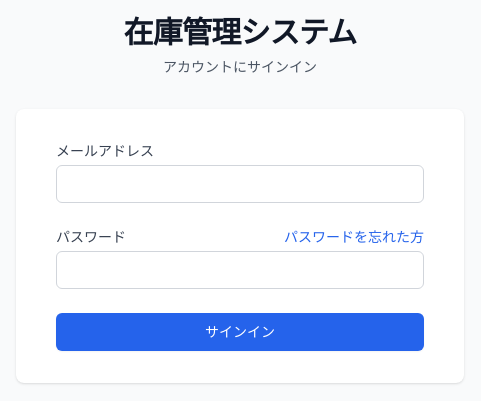
Test: Login › Successful Login › should disable button during login
Step 1. Type "test@example.com" into the field labelled "メールアドレス" → coordinates (240, 184), box left=56, top=165, right=424, bottom=203
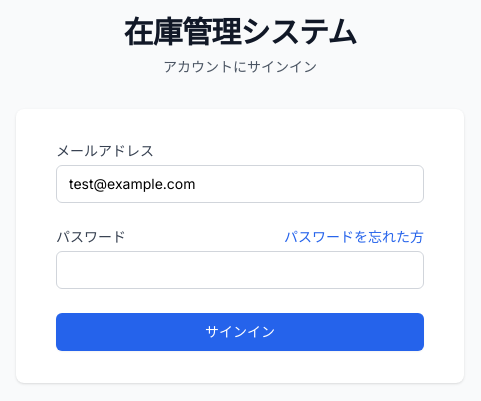
Step 2. Type "password123" into the password field labelled "パスワード" → coordinates (240, 270), box left=56, top=251, right=424, bottom=289
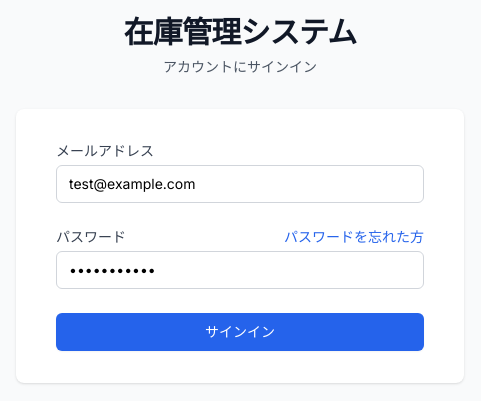
Step 3. Click the button "サインイン" → coordinates (240, 332), box left=56, top=313, right=424, bottom=351
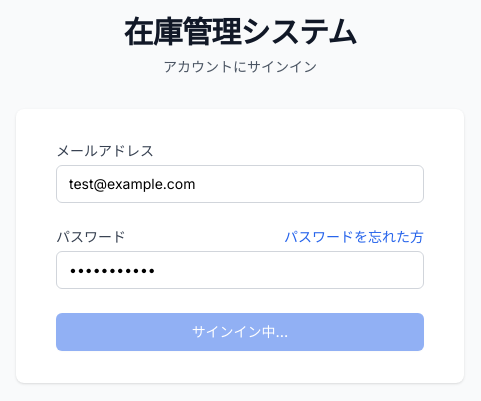
Check: the button "サインイン中..." is disabled, box left=56, top=313, right=424, bottom=351
